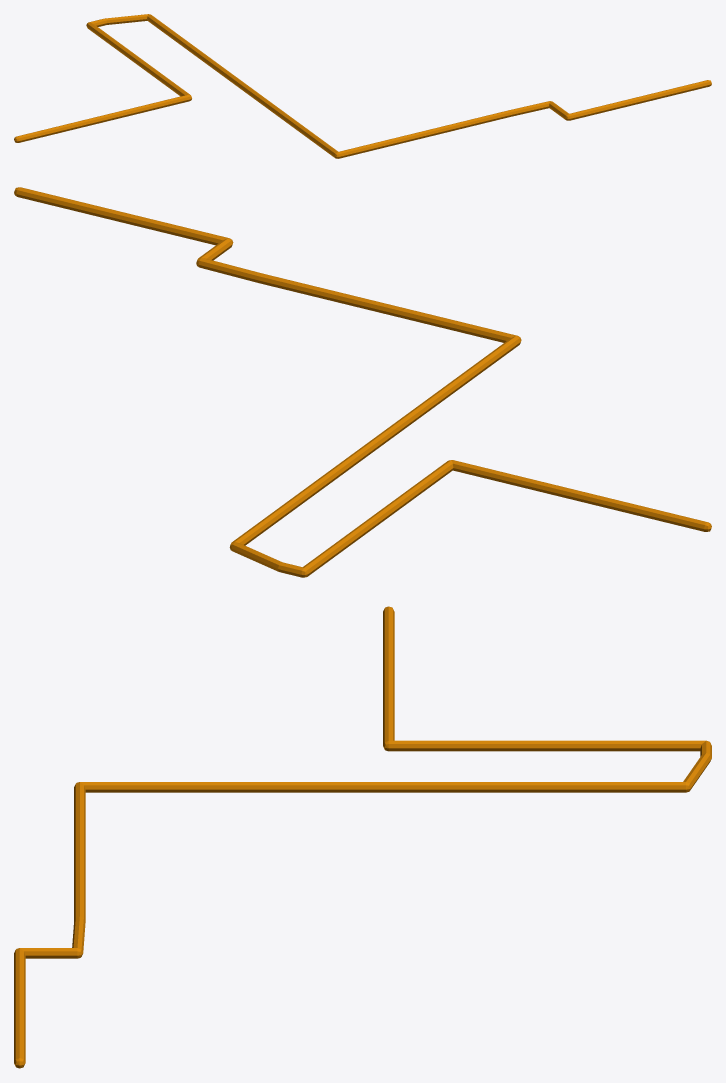
3 views of the same model, one above another, from view 1: azimuth 30°, elevation 25°; view 2: azimuth 150°, elevation 25°; view 3: azimuth 270°, elevation 25° (orthographic). The views are drawn at different scales.
Size of the model in its own units: 1870 by 20 by 1209.
